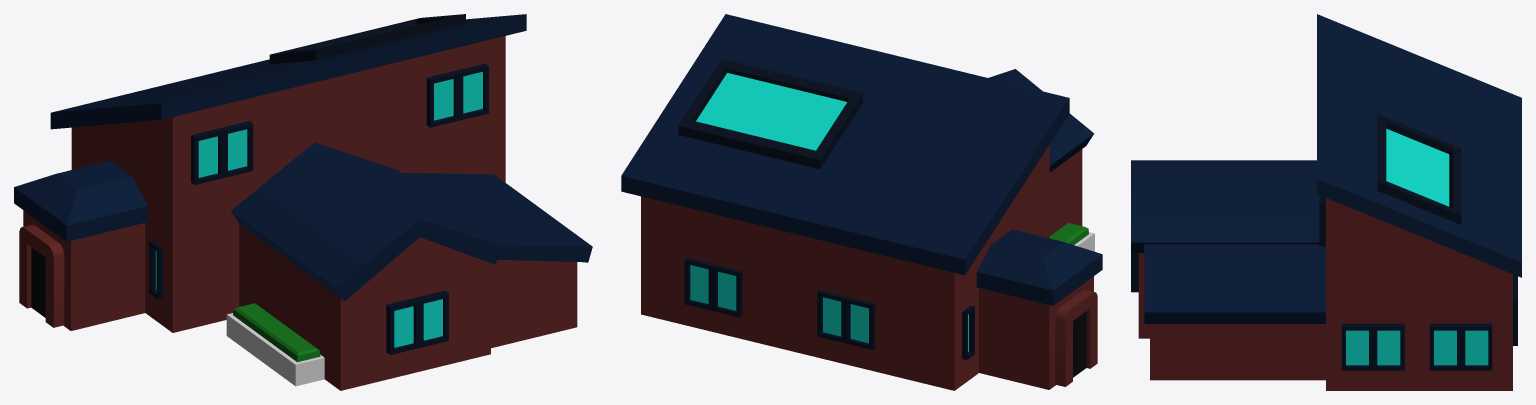
Rendered from House_8.fbx.
The picture shows the model from 3 angles, left to right: view 1: azimuth 30°, elevation 25°; view 2: azimuth 150°, elevation 25°; view 3: azimuth 270°, elevation 25°; orthographic projection. The views are drawn at different scales.
Parts seen in each view (by area): view 1: House_8; view 2: House_8; view 3: House_8.
Part boxes in pixels (box(x1,y1,x2,y2)): House_8: box(14, 14, 592, 390); House_8: box(621, 14, 1102, 390); House_8: box(1131, 14, 1521, 390).
Size of the model in its own units: 69.57 by 36.37 by 58.69.
